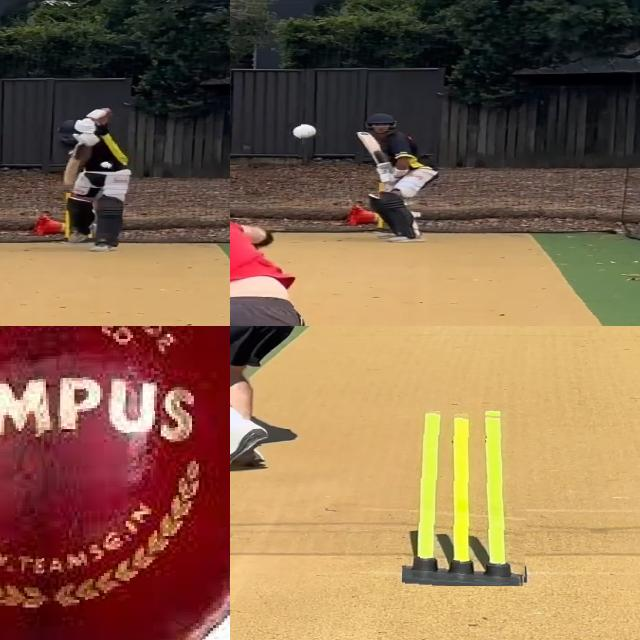Cricket ball: (0, 326, 230, 640), (289, 122, 320, 142), (101, 161, 112, 169)
Stumps: (402, 409, 528, 586)
